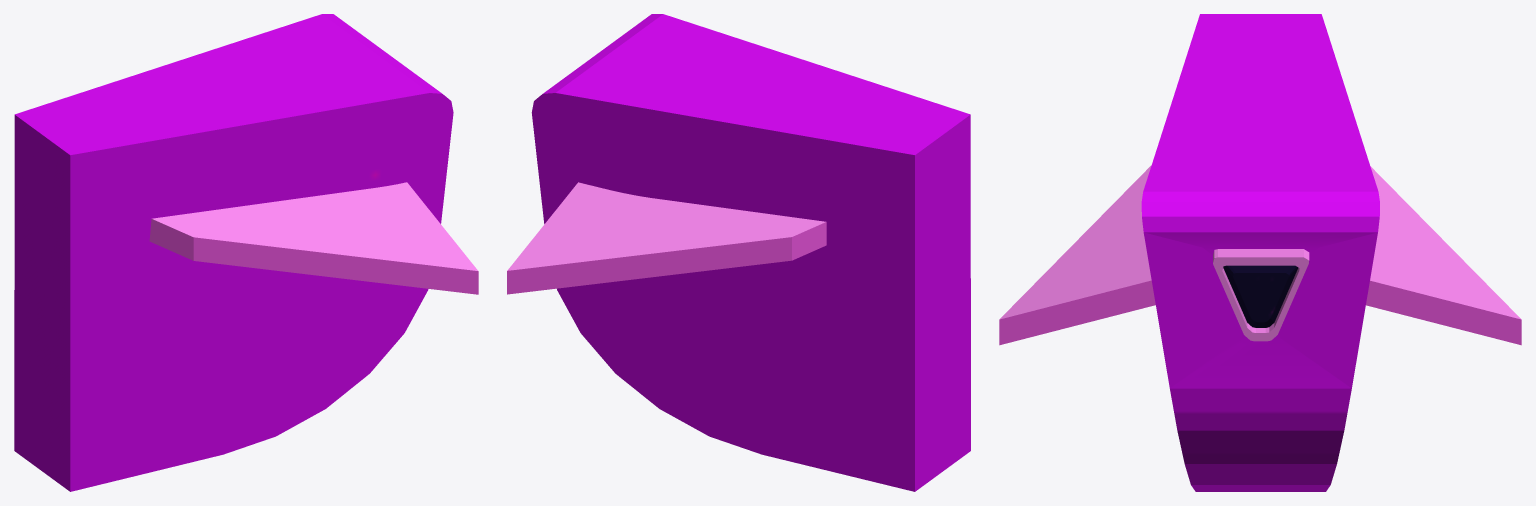
The model's file is 01_light_v01.fbx.
3 renders of one model, left to right at view 1: azimuth 30°, elevation 25°; view 2: azimuth 150°, elevation 25°; view 3: azimuth 270°, elevation 25°, orthographic. The views are drawn at different scales.
Visible parts, largest first — view 1: 02_wings; view 2: 02_wings; view 3: 02_wings.
Boxes of the visible parts, x1,y1,x2,y2 form: 02_wings: [14, 14, 478, 491]; 02_wings: [507, 14, 970, 491]; 02_wings: [999, 14, 1521, 491].
Size of the model in its own units: 576 by 500 by 644.
